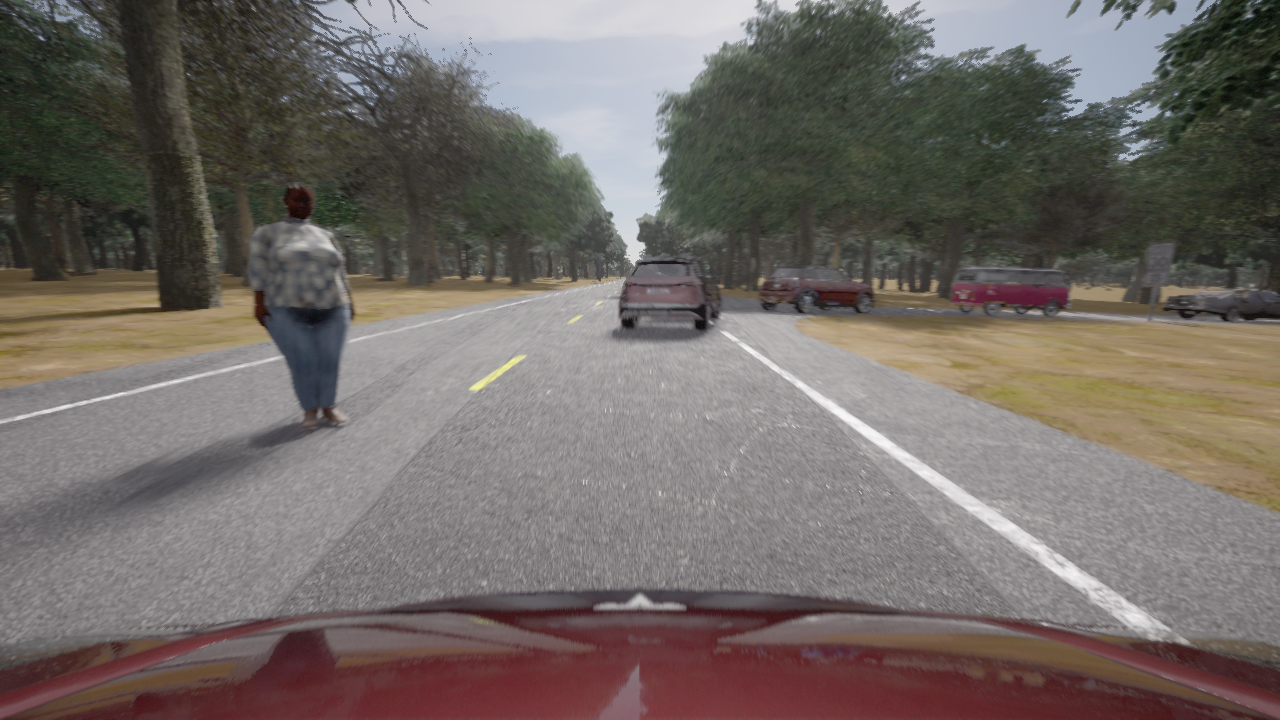cyclist: (0, 588, 1279, 719), (619, 254, 720, 329), (950, 267, 1072, 316), (761, 268, 873, 303), (1162, 288, 1279, 321)
pedestrian: (249, 183, 355, 429)
